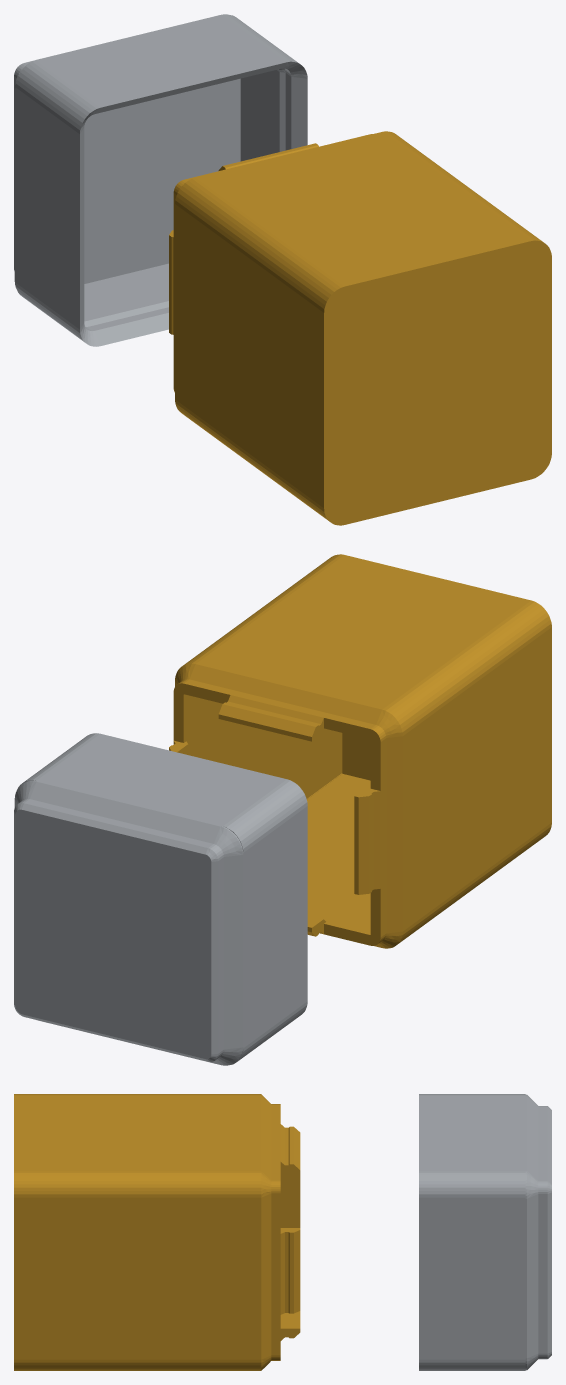
The model's file is toothpick-holder.glb.
3 views of the same model, one above another, from view 1: azimuth 30°, elevation 25°; view 2: azimuth 150°, elevation 25°; view 3: azimuth 270°, elevation 25° (orthographic). The views are drawn at different scales.
Size of the model in its own units: 41.52 by 41.52 by 102.
